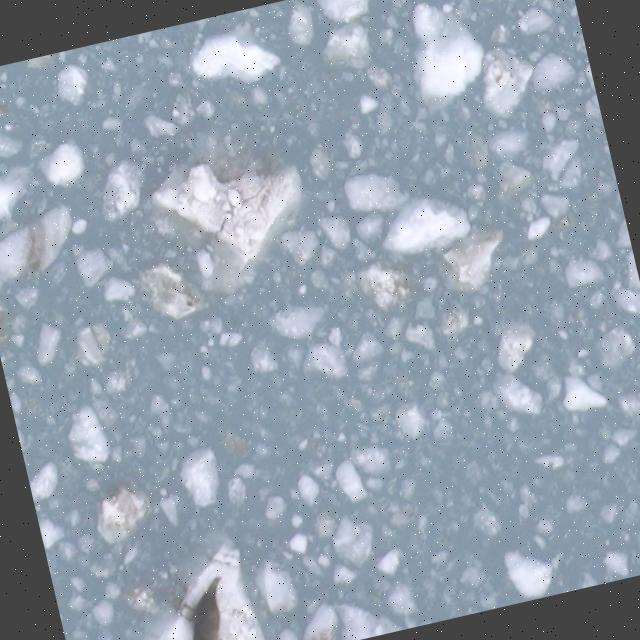seal: (174, 569, 240, 640)
